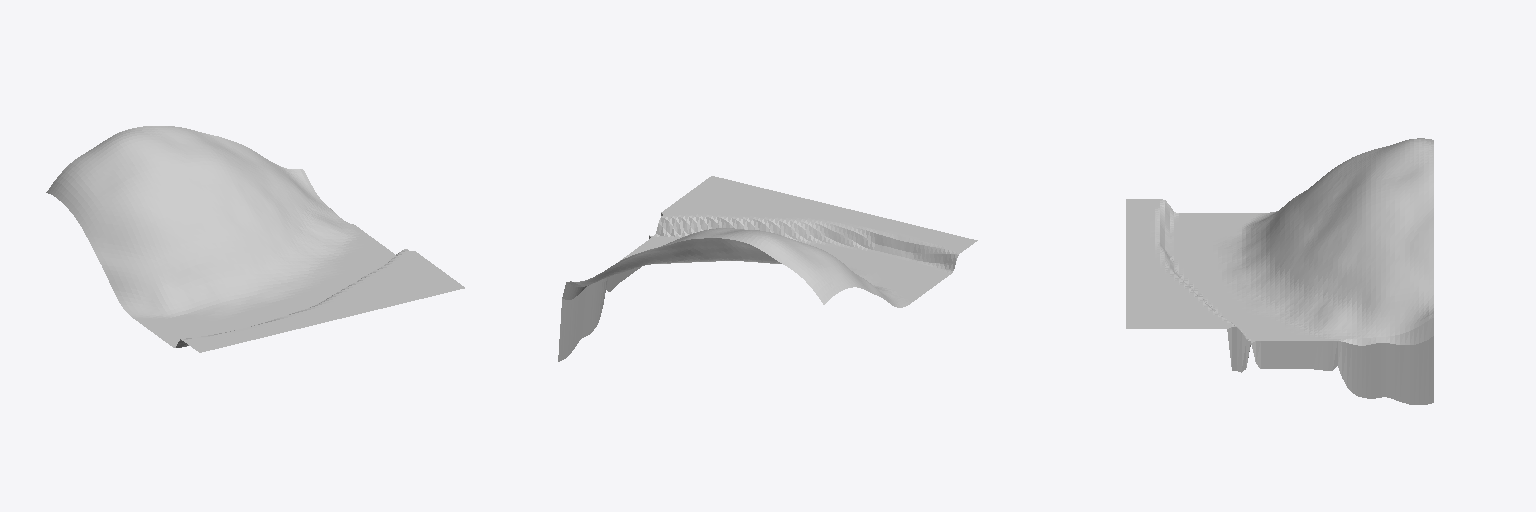
File: SM_Terrain_Tuto2Chunk0.2.obj
3 views of the same model, side by side, from view 1: azimuth 30°, elevation 25°; view 2: azimuth 150°, elevation 25°; view 3: azimuth 270°, elevation 25° (orthographic).
Size of the model in its own units: 100 by 60.47 by 100.